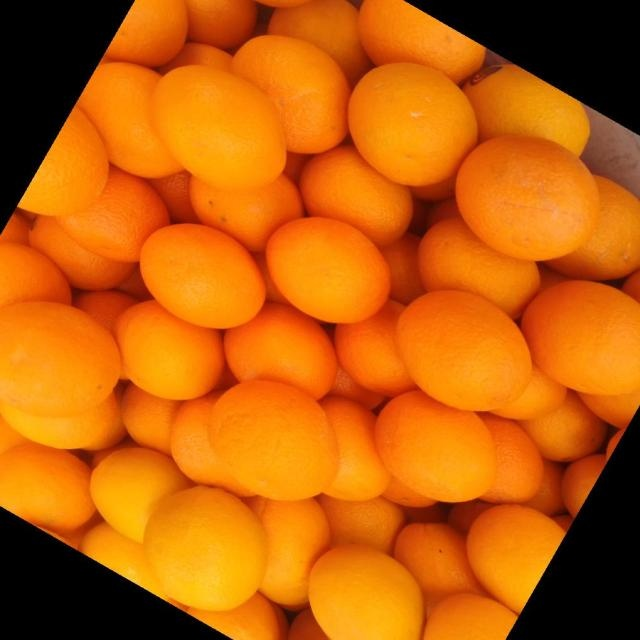agrume: (131, 208, 280, 343), (457, 135, 600, 260), (154, 64, 286, 189), (395, 289, 529, 411), (350, 63, 479, 185), (143, 485, 268, 609), (207, 380, 336, 500), (232, 35, 351, 152), (375, 391, 497, 505), (2, 302, 119, 419), (523, 279, 638, 397), (268, 217, 390, 324), (416, 217, 540, 318), (78, 62, 181, 179), (300, 148, 416, 248), (463, 64, 589, 156), (224, 304, 337, 400), (306, 547, 426, 637), (55, 171, 168, 266), (117, 301, 223, 402), (466, 504, 563, 614), (359, 1, 486, 82), (545, 176, 640, 280), (16, 108, 107, 216), (89, 448, 189, 545), (190, 173, 304, 253), (248, 496, 329, 606), (0, 444, 95, 535), (268, 0, 369, 84), (170, 394, 254, 494), (335, 302, 419, 398), (30, 213, 134, 290), (314, 399, 391, 501), (395, 522, 488, 606), (469, 417, 544, 504), (521, 389, 606, 462), (104, 1, 186, 67), (1, 243, 69, 316), (180, 0, 257, 50)
